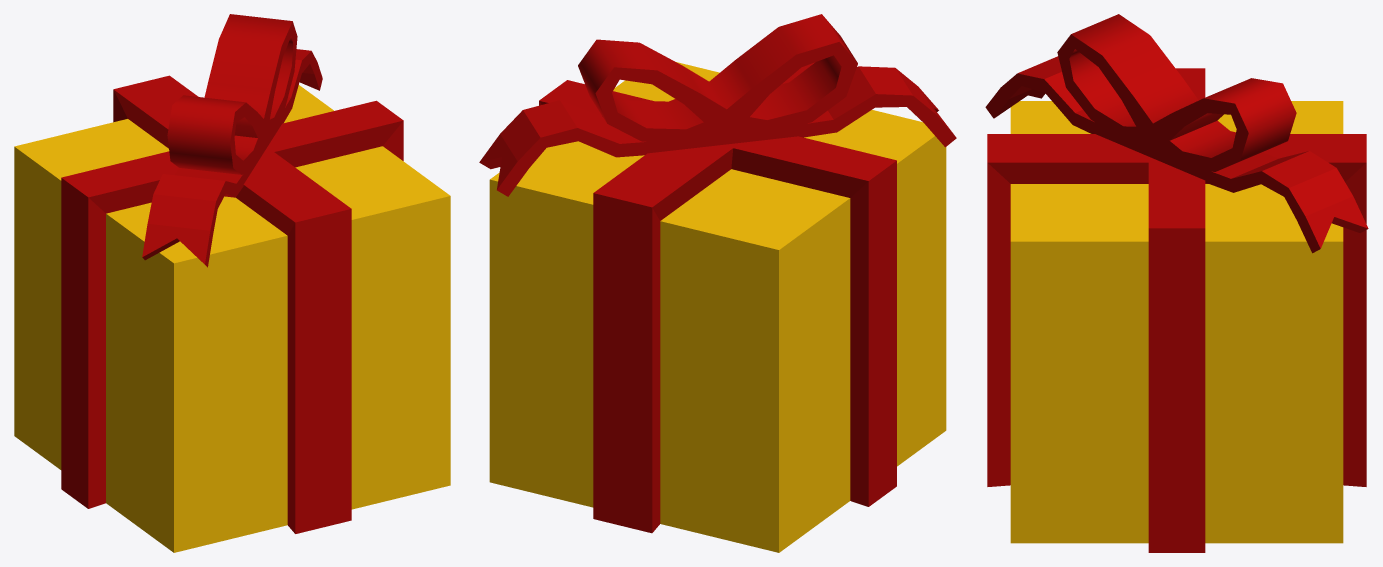
File: Presents3.fbx
3 views of the same model, side by side, from view 1: azimuth 30°, elevation 25°; view 2: azimuth 150°, elevation 25°; view 3: azimuth 270°, elevation 25° (orthographic). The views are drawn at different scales.
Visible parts, largest first — view 1: Present3; view 2: Present3; view 3: Present3.
Boxes of the visible parts, x1,y1,x2,y2 form: Present3: [14, 14, 450, 552]; Present3: [479, 14, 956, 552]; Present3: [985, 14, 1368, 552].
Size of the model in its own units: 46.08 by 54.94 by 46.08.
